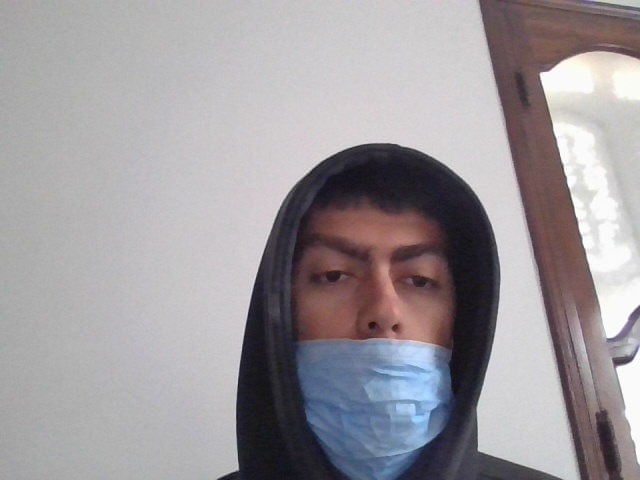mask_weared_incorrect: (289, 174, 487, 466)
